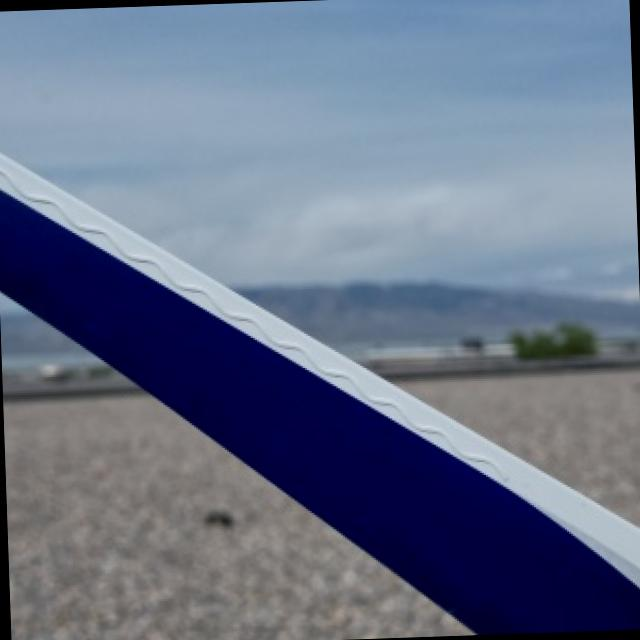healthy: (0, 151, 640, 633), (3, 396, 463, 640)
